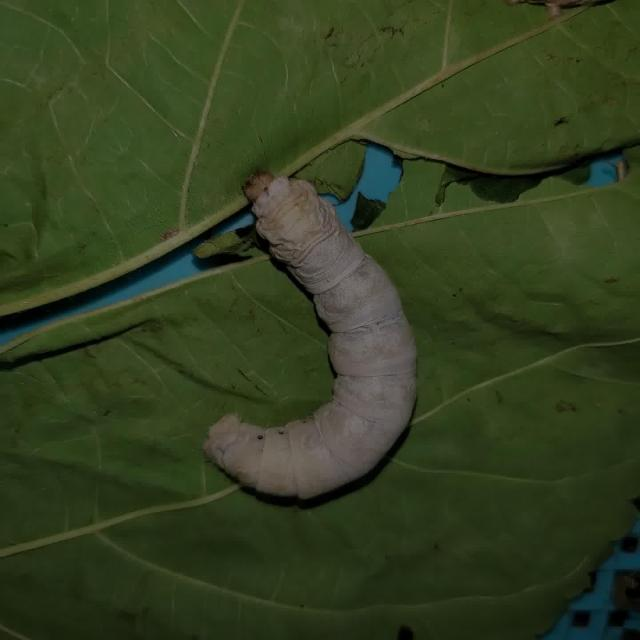Grasserie: (199, 149, 433, 514)
